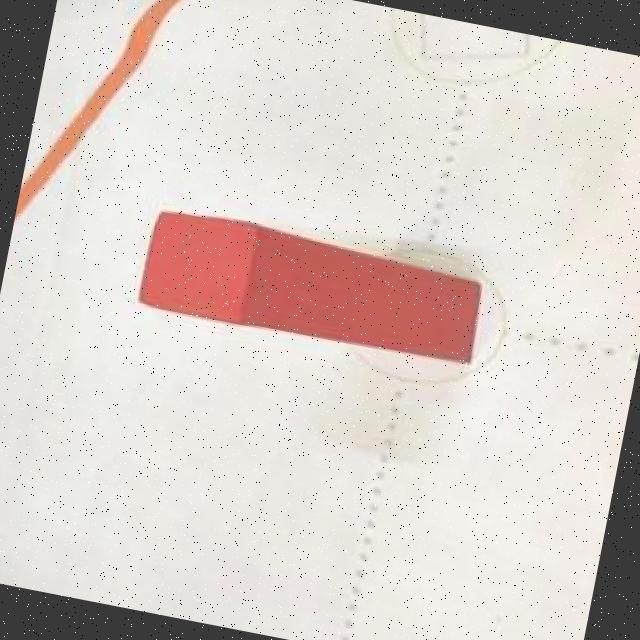redbox: (134, 205, 488, 372)
